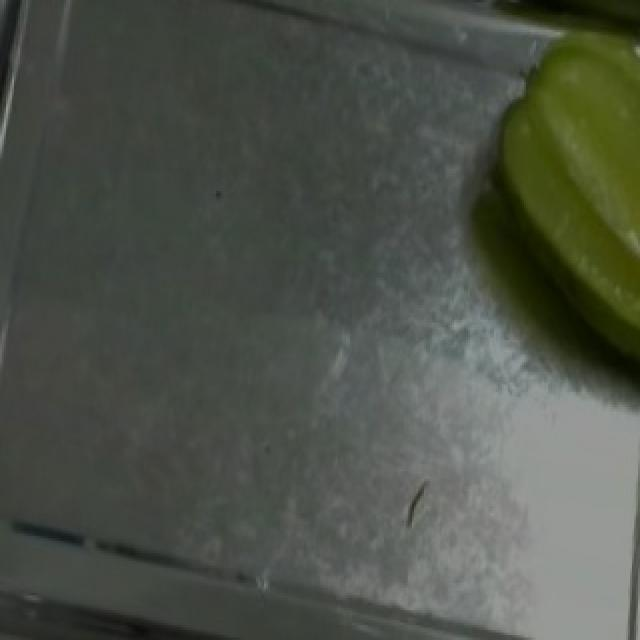fruit: (470, 8, 640, 372)
